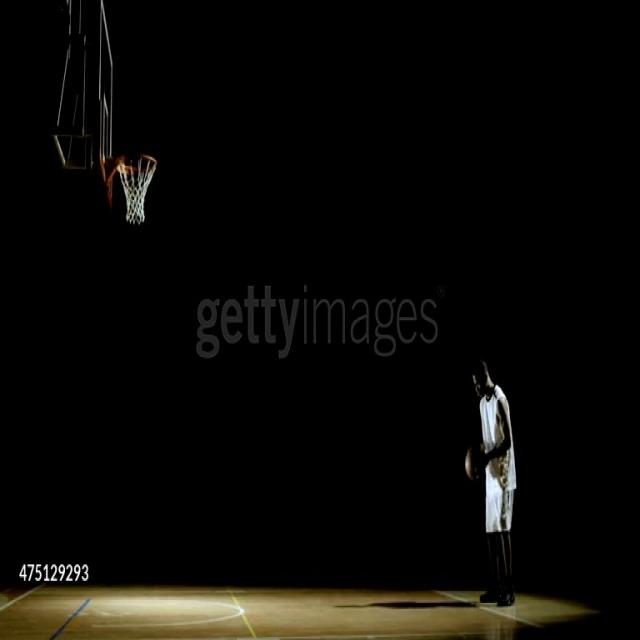ball: (463, 448, 482, 484)
